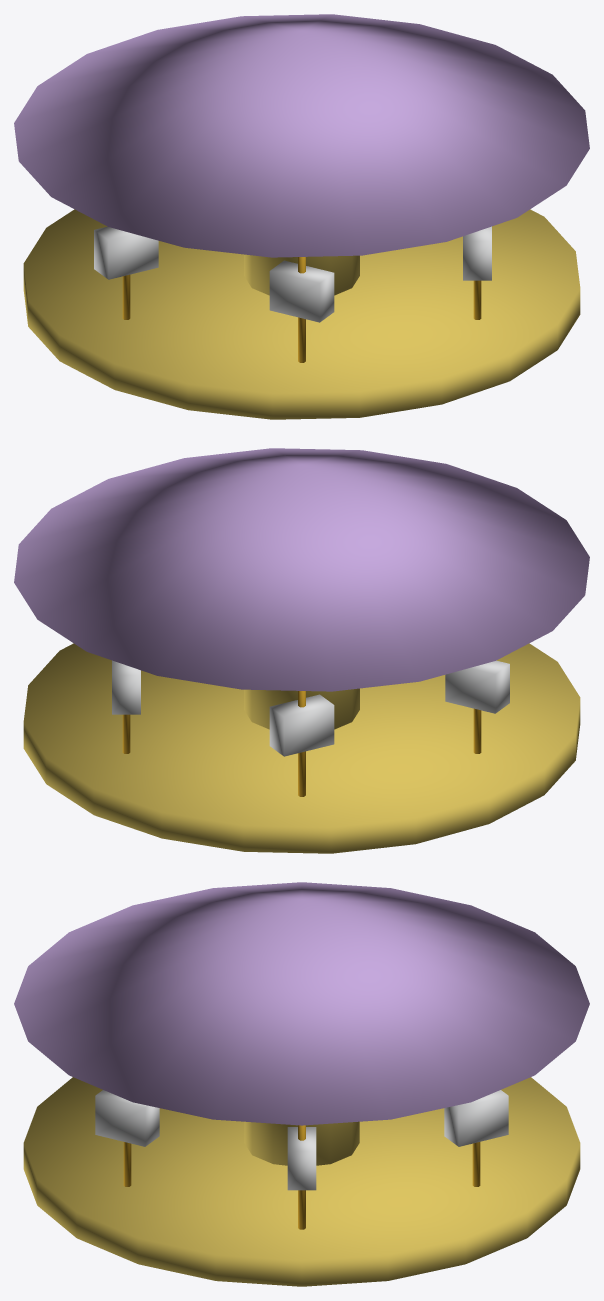
Rendered from carousel.glb.
The picture shows the model from 3 angles, top to bottom: view 1: azimuth 30°, elevation 25°; view 2: azimuth 150°, elevation 25°; view 3: azimuth 270°, elevation 25°; orthographic projection.
Visible parts, largest first — view 1: world; view 2: world; view 3: world.
Boxes of the visible parts, x1,y1,x2,y2 form: world: (14,14,589,419); world: (14,448,589,853); world: (14,882,589,1286).
Bounding box in the file's own units: 12 × 6.2 × 12.
